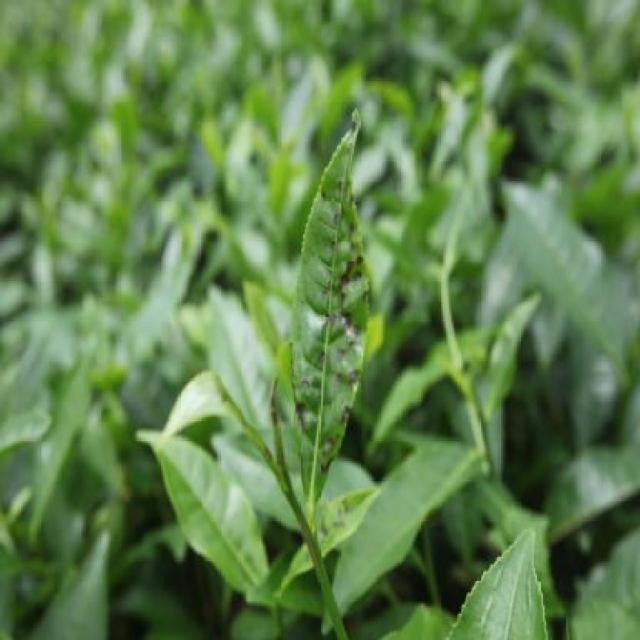Tea Mosquito bug infested leaf: (283, 117, 380, 501)
